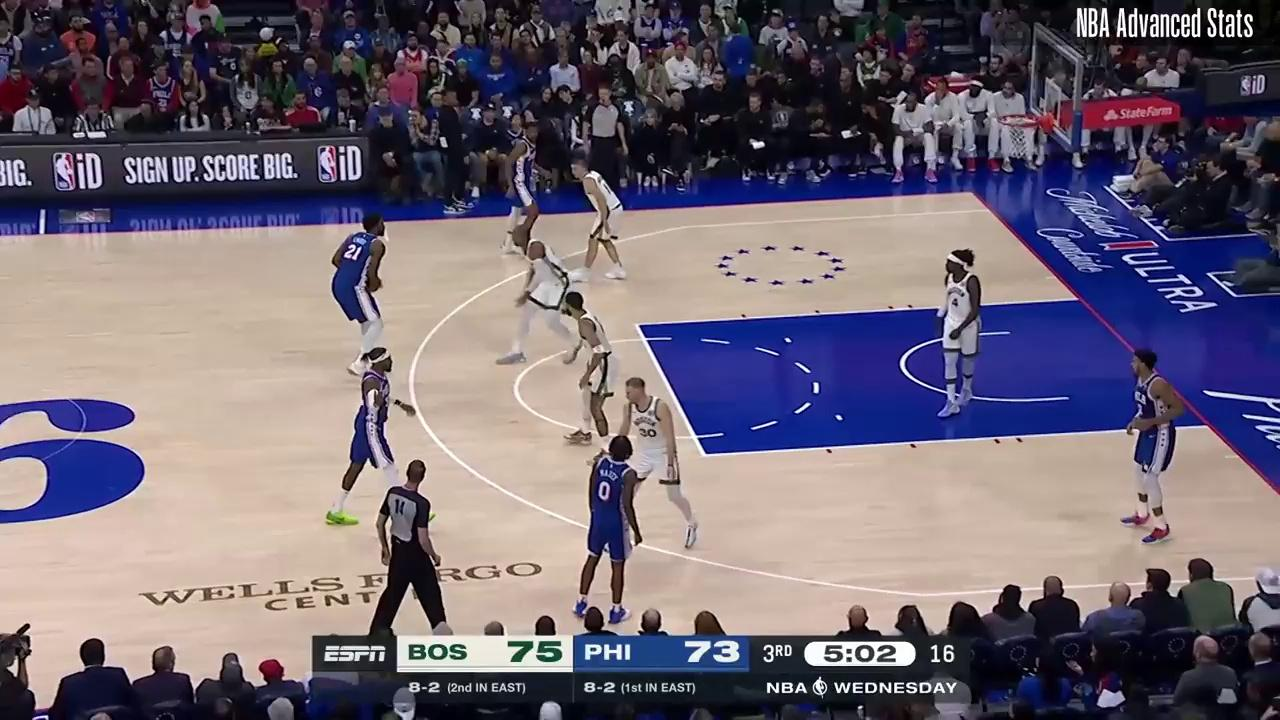3_sx: (984, 205, 996, 215)
b_sx: (967, 187, 978, 197)
free_adx: (697, 447, 711, 462)
free_asx: (631, 319, 643, 331)
free_bdx: (1202, 419, 1217, 433)
free_bsx: (1073, 292, 1088, 306)
referee: (364, 458, 460, 638)
team: (613, 375, 702, 545), (502, 224, 582, 363), (934, 245, 986, 419), (561, 154, 627, 284), (562, 291, 616, 449)
team1: (323, 345, 435, 526), (574, 438, 641, 622), (1122, 346, 1181, 542), (328, 209, 389, 378), (499, 119, 540, 256)
timer: (811, 633, 903, 672)
